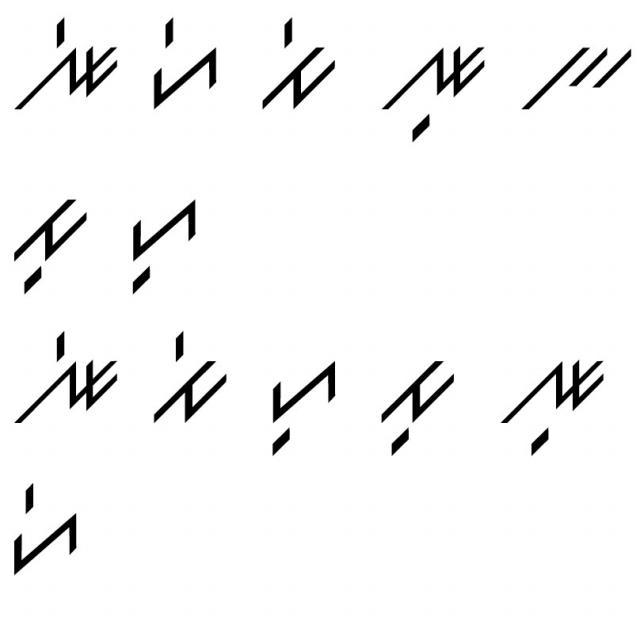he: (9, 478, 90, 587), (137, 12, 226, 108)
hu: (118, 187, 208, 301), (258, 356, 343, 461)
mbe: (252, 4, 348, 120), (142, 324, 232, 428)
mbu: (6, 190, 94, 297), (373, 359, 463, 456)
nde: (4, 13, 123, 118), (5, 324, 124, 428)
ndu: (371, 36, 494, 148), (498, 345, 610, 460)
